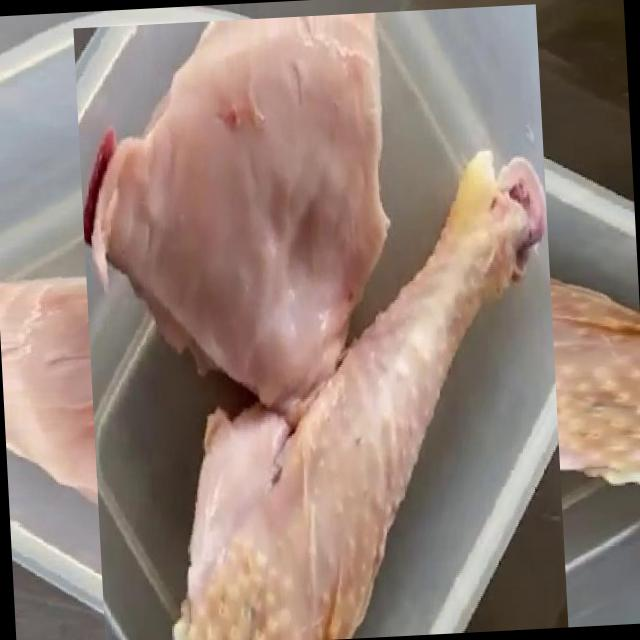chicken: (31, 46, 611, 626)
